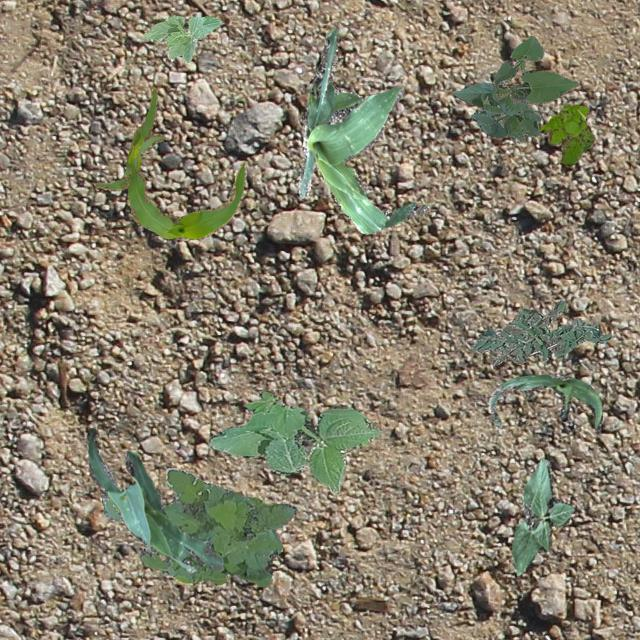crop: (296, 26, 428, 232), (94, 86, 246, 240), (86, 426, 222, 572), (452, 34, 578, 140), (510, 458, 572, 574), (488, 374, 602, 434), (142, 14, 220, 62)
weed: (100, 466, 296, 586), (208, 391, 380, 492), (470, 300, 610, 364), (540, 104, 592, 166)
